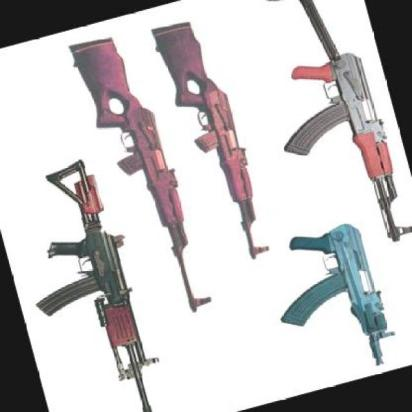Gun: (60, 26, 216, 328), (241, 0, 412, 263), (0, 148, 170, 412), (145, 6, 286, 276), (255, 214, 405, 388)
